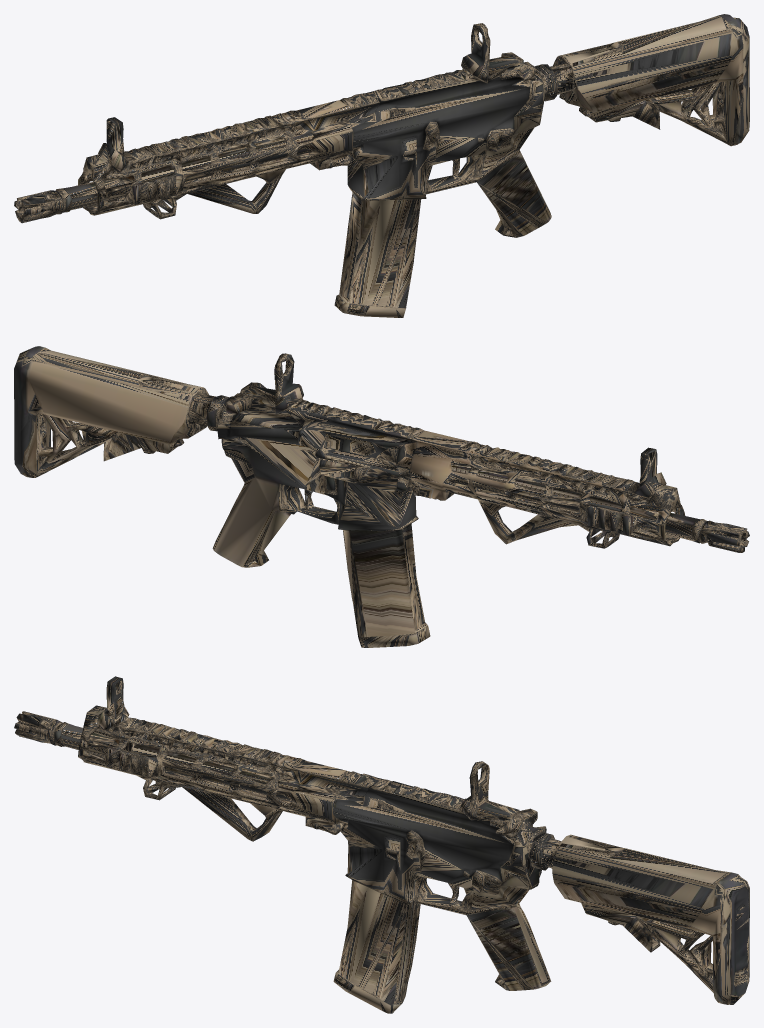
3 views of the same model, one above another, from view 1: azimuth 30°, elevation 25°; view 2: azimuth 150°, elevation 25°; view 3: azimuth 330°, elevation 25° (orthographic).
Visible parts, largest first — view 1: Mesh_0; view 2: Mesh_0; view 3: Mesh_0.
Boxes of the visible parts, x1,y1,x2,y2 form: Mesh_0: [14, 14, 749, 317]; Mesh_0: [14, 346, 749, 647]; Mesh_0: [14, 676, 749, 1013].
Size of the model in its own units: 2 by 0.7101 by 0.174.
1 material, 1 textured.
